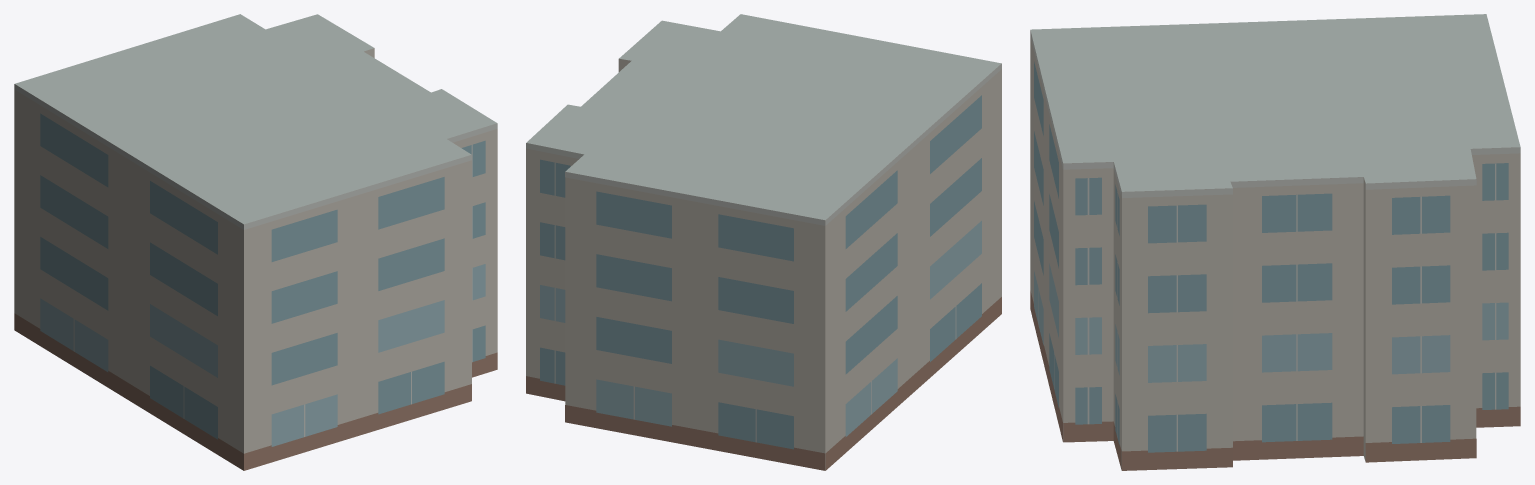
Rendered from survey-upis-32656331.glb.
3 renders of one model, left to right at view 1: azimuth 30°, elevation 25°; view 2: azimuth 150°, elevation 25°; view 3: azimuth 270°, elevation 25°, orthographic. The views are drawn at different scales.
Visible parts, largest first — view 1: survey-upis-32656331.tmp; view 2: survey-upis-32656331.tmp; view 3: survey-upis-32656331.tmp.
Boxes of the visible parts, bbox=[...] form: survey-upis-32656331.tmp: bbox=[14, 14, 497, 470]; survey-upis-32656331.tmp: bbox=[526, 14, 1001, 470]; survey-upis-32656331.tmp: bbox=[1030, 14, 1520, 470].
Bounding box in the file's own units: 14.78 × 10.8 × 17.21.
